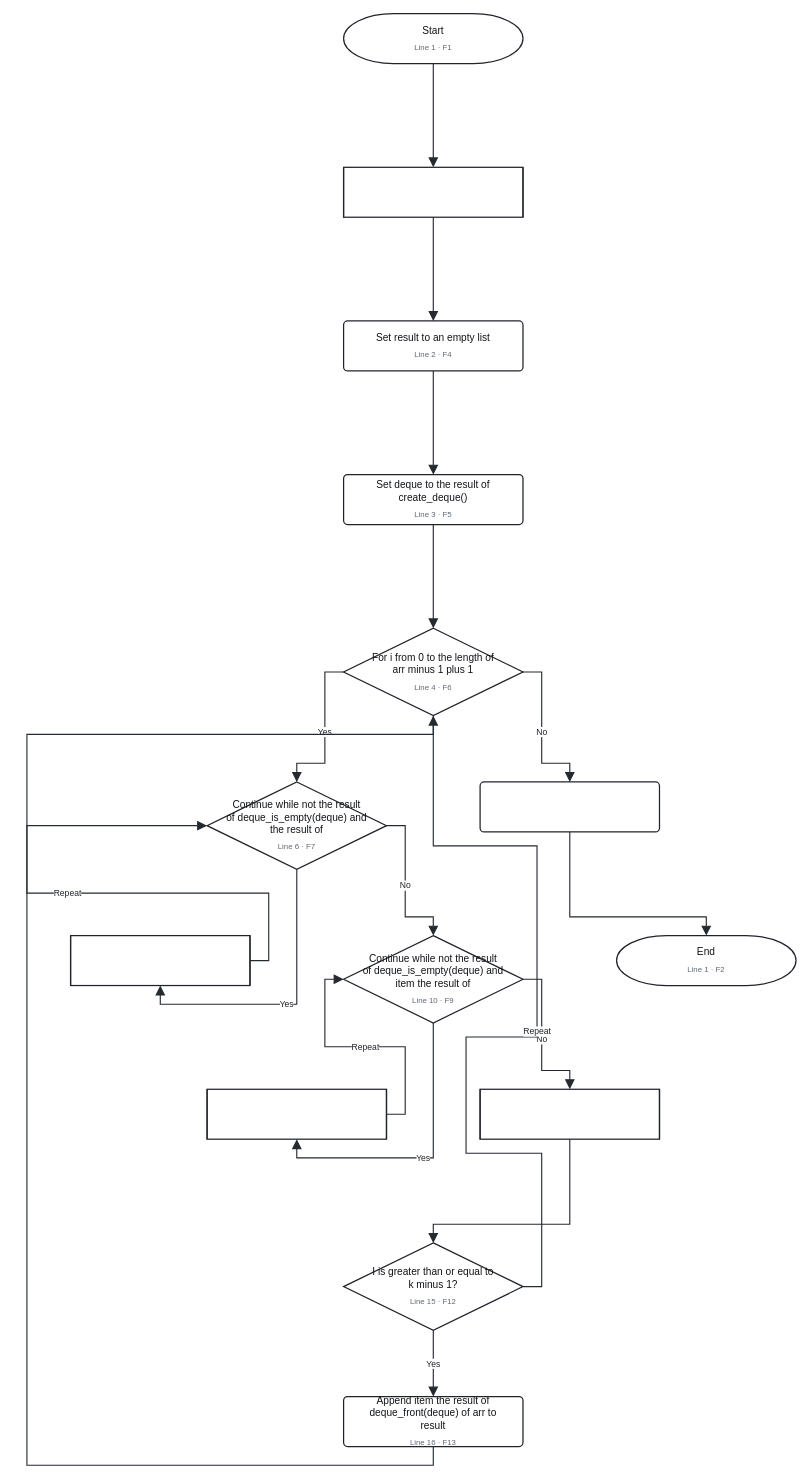
The diagram is 810 pixels wide and 1480 high, and some of its shapes have lost their labels. The centre of each missing label's shape, as x and y in pixels:
"Call deque_pop_back with deque Line 11 · F10" belongs at (296,1113).
"Call deque_pop_front with deque Line 7 · F8" belongs at (160,960).
"Call deque_push_back with deque, i Line 13 · F11" belongs at (569,1113).
"Return result Line 19 · F14" belongs at (569,806).
"Run function slidingWindowMax with arr, k Line 1 · F3" belongs at (433,191).
